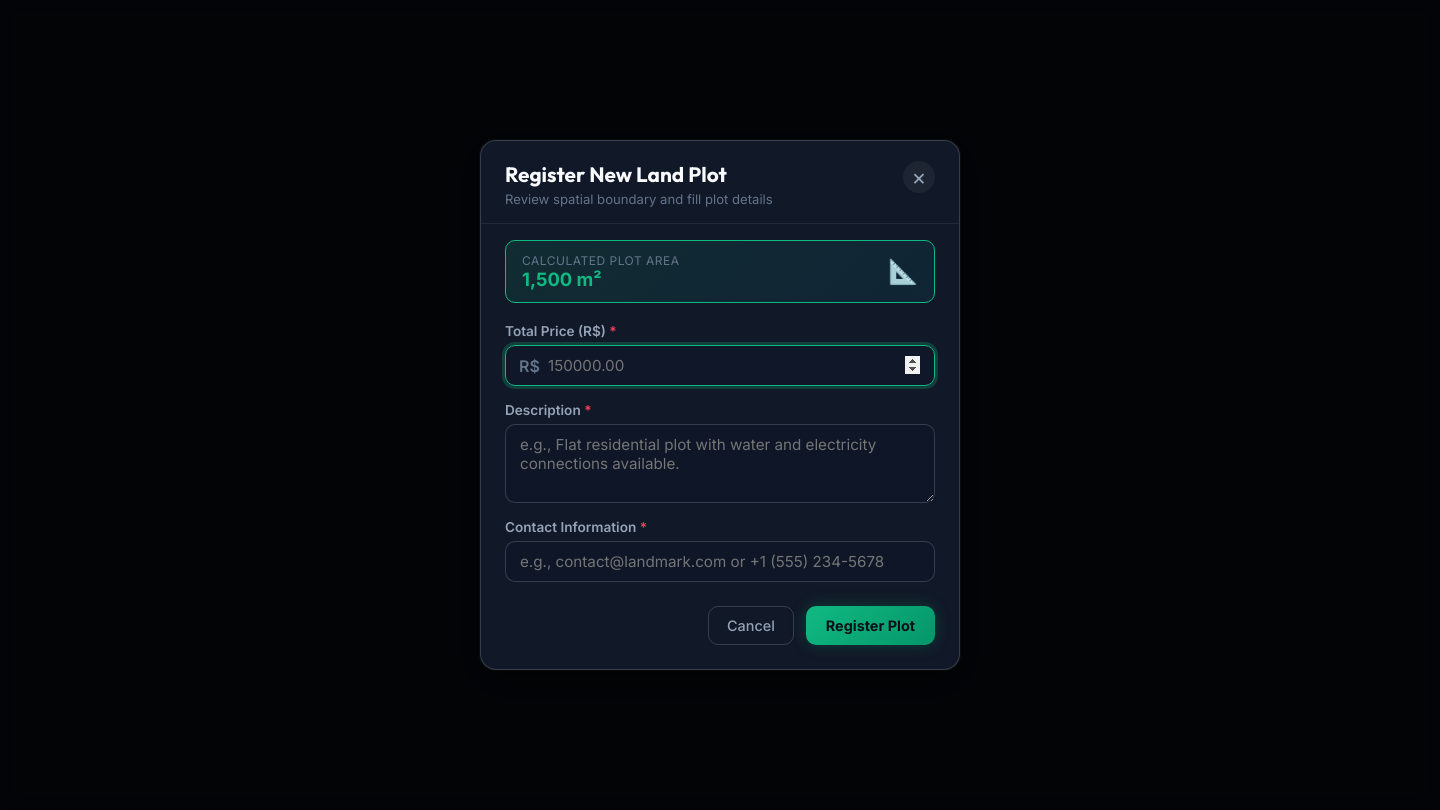
Test: PlotCreationModal Component › validates required fields before submitting
// Submit form with empty fields
Submit the form "Register Plot", box [481,303,959,669]
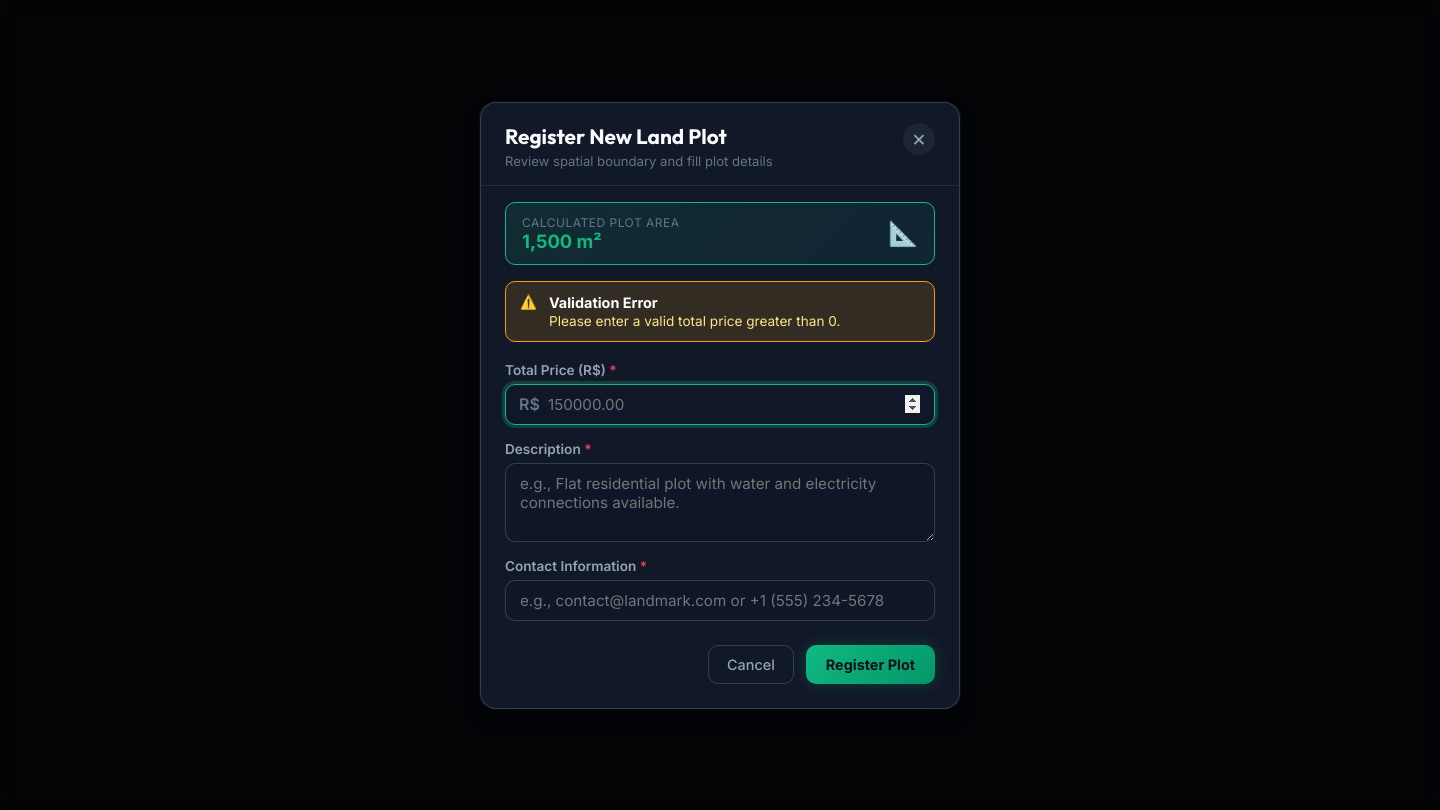
Expected: the text "Please enter a valid total price greater than 0." is shown, [549,312,840,328]
// Now fill price with valid, but empty description
Type "100" into the number field labelled "Total Price (R$) *" at (720, 404), box [505,384,935,424]
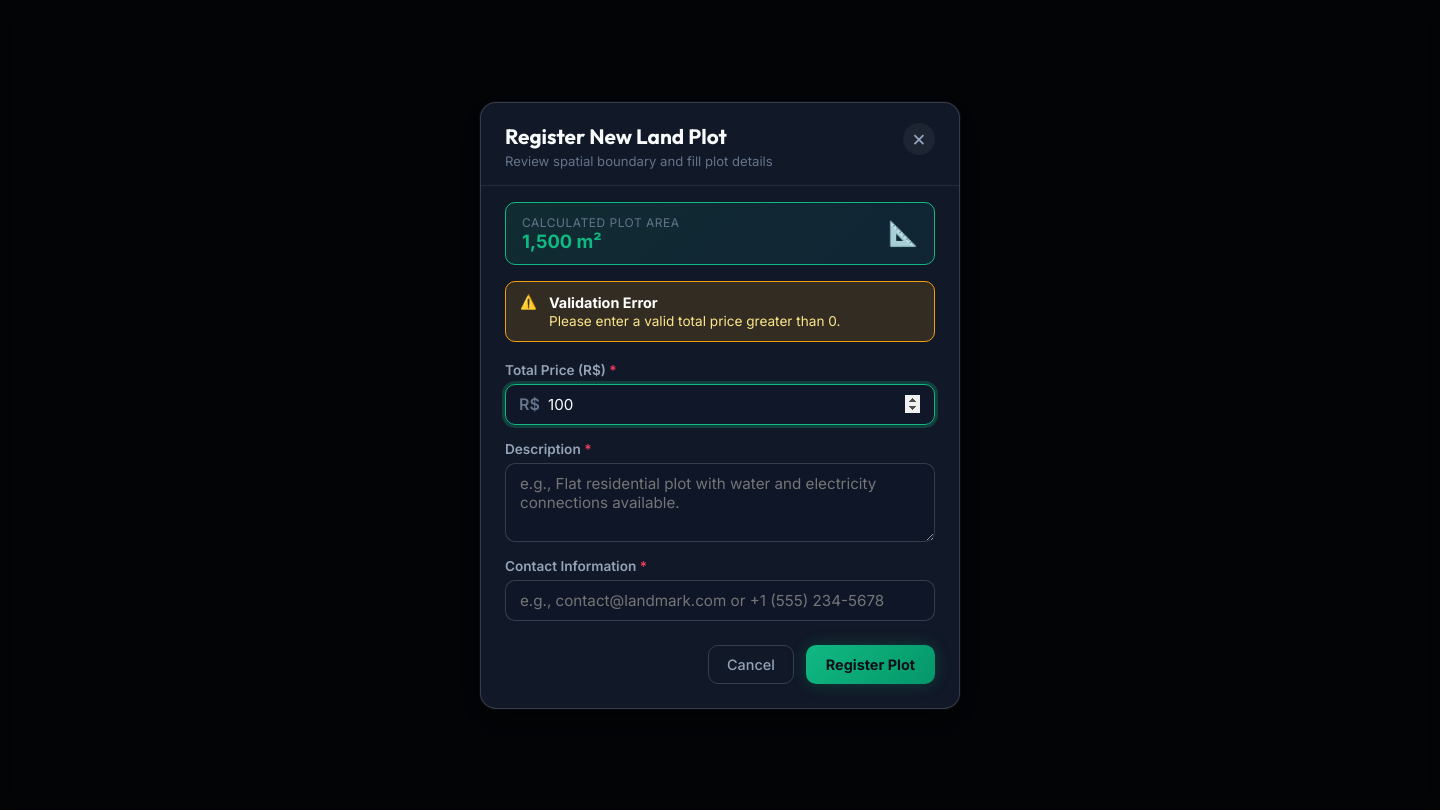
Submit the form "Register Plot", box [481,342,959,708]
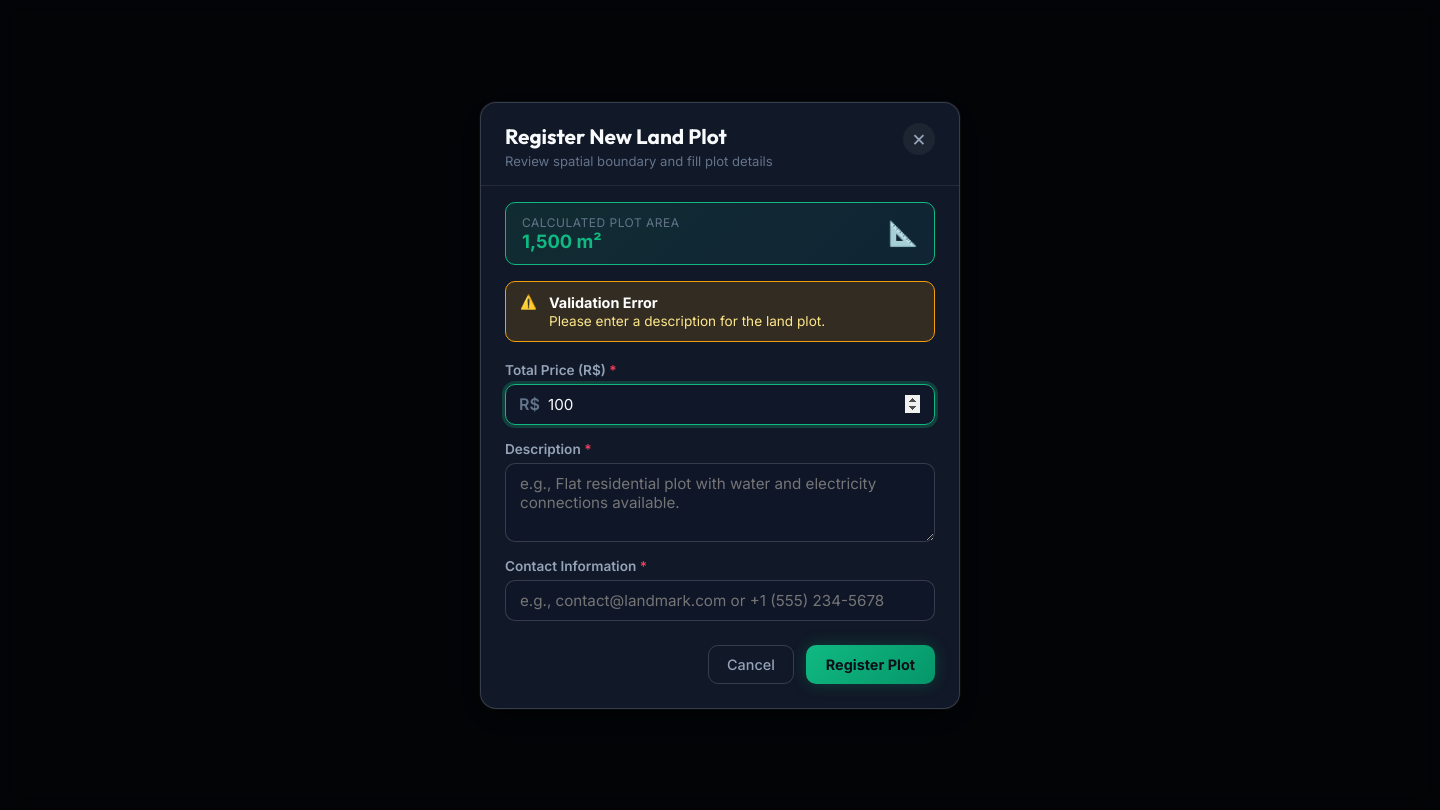
Expected: the text "Please enter a description for the land plot." is shown, [549,312,825,328]
// Now fill description, but empty contact
Replace the text in the text box labelled "Description *" with "Some plot" at (720, 502), box [505,462,935,542]
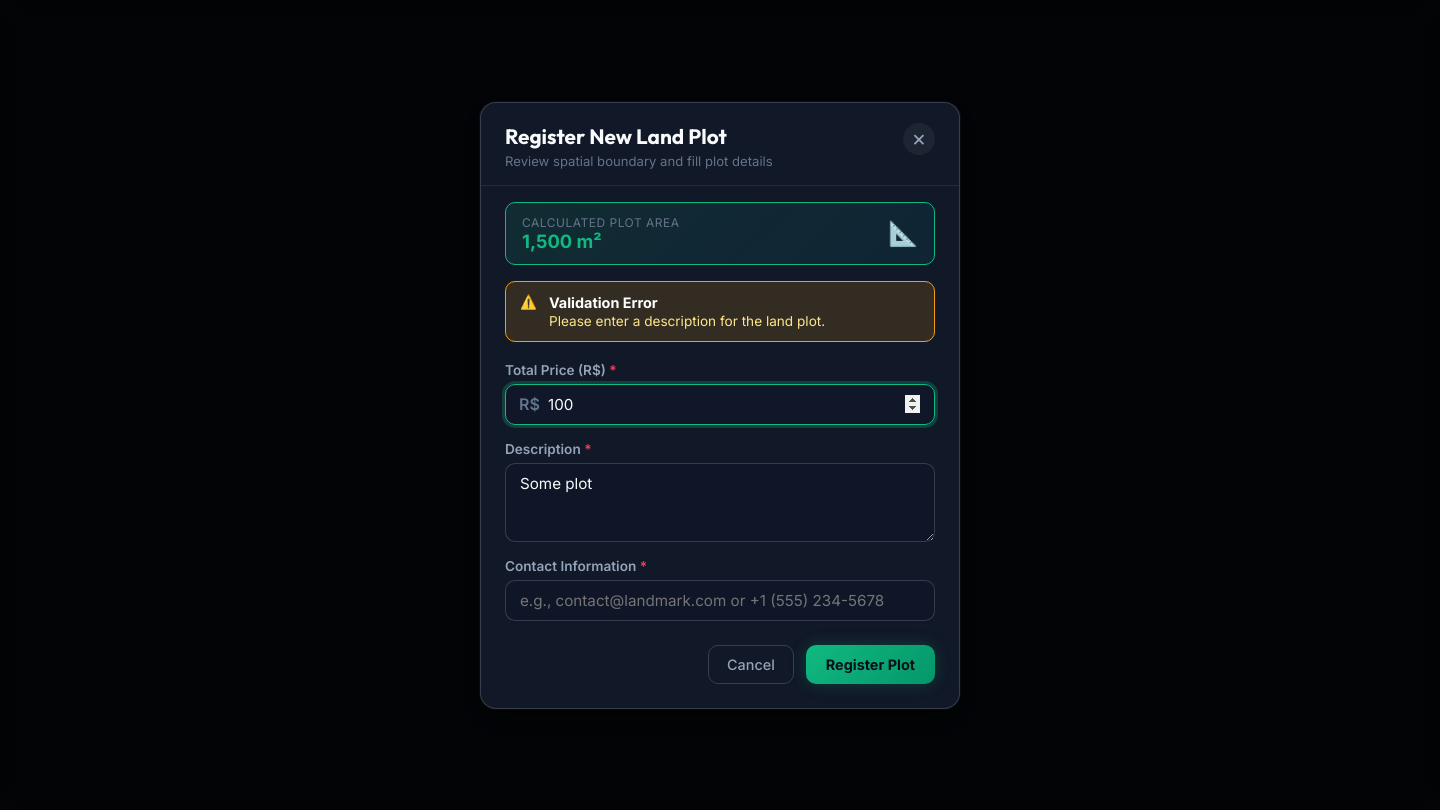
Submit the form "Register Plot", box [481,342,959,708]
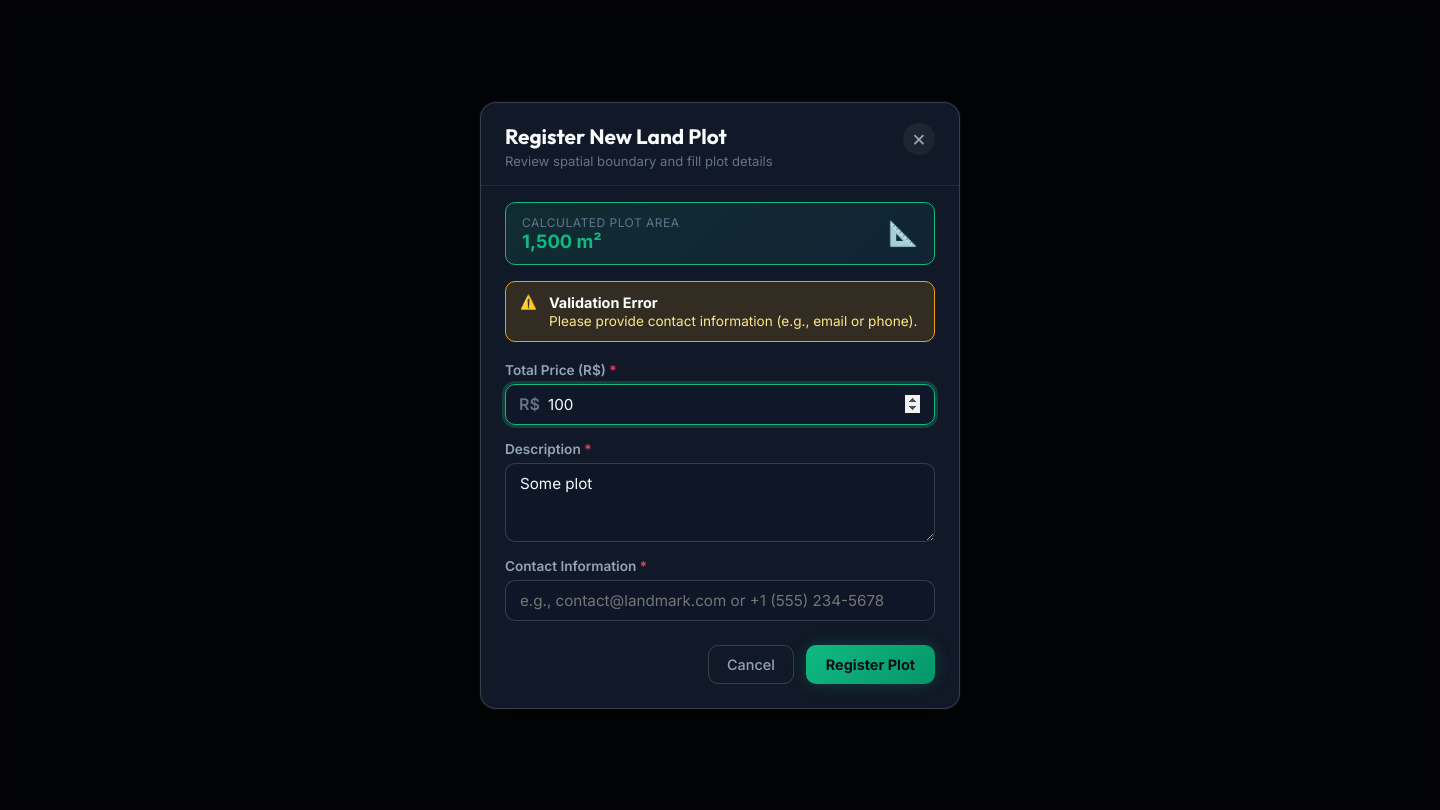
Expected: the text "Please provide contact information (e.g., email or phone)." is shown, [549,312,917,328]
